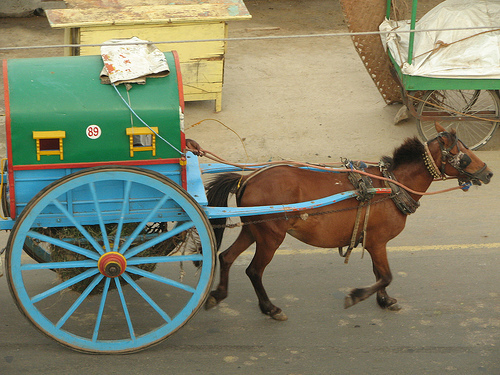horse: (201, 126, 498, 322)
